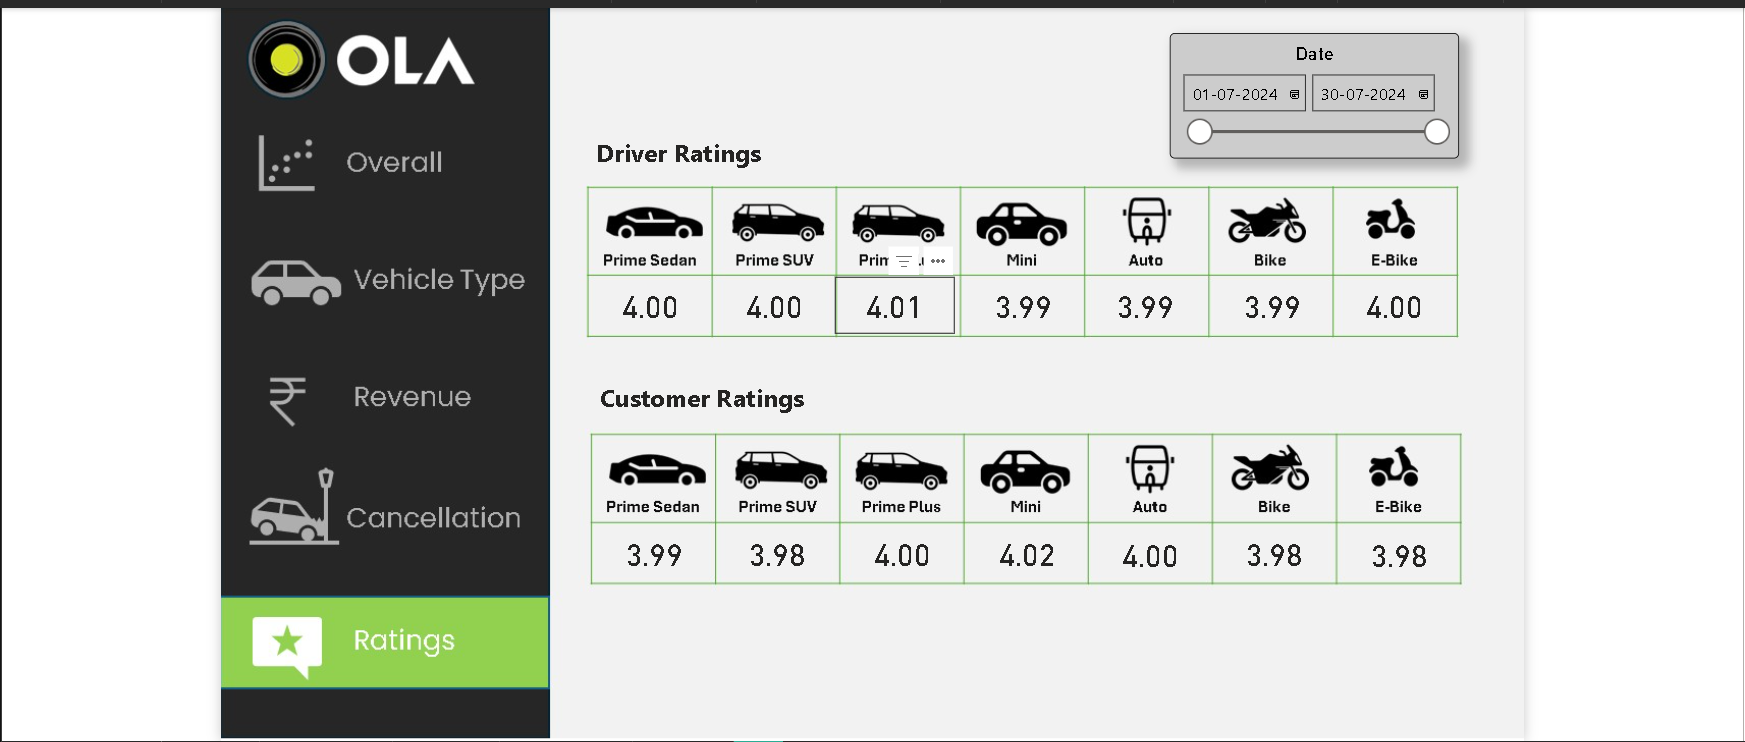

This screenshot's page, from the dashboard's own definition file:
{"tool":"powerbi","page":{"name":"Ratings","canvas":[1280,720],"ordinal":4},"visuals":[{"type":"actionButton","box":[0,216,325.2,90.8],"z":0},{"type":"actionButton","box":[0,337.4,325.2,90.8],"z":1000},{"type":"actionButton","box":[0,445.4,325.2,90.8],"z":2000},{"type":"actionButton","box":[0,104.3,325.2,90.8],"z":3000},{"type":"card","fields":{"Values":["Avg(July.Driver_Ratings)"]},"box":[363.6,263.5,118,56.3],"z":4000},{"type":"card","fields":{"Values":["Avg(July.Driver_Ratings)"]},"box":[484.4,263.5,118,56.3],"z":5000},{"type":"card","fields":{"Values":["Avg(July.Driver_Ratings)"]},"box":[602.4,263.5,118,56.3],"z":6000},{"type":"card","fields":{"Values":["Avg(July.Driver_Ratings)"]},"box":[728.6,263.5,118,56.3],"z":7000},{"type":"card","fields":{"Values":["Avg(July.Driver_Ratings)"]},"box":[849.4,263.5,118,56.3],"z":8000},{"type":"card","fields":{"Values":["Avg(July.Driver_Ratings)"]},"box":[972.9,263.5,118,56.3],"z":9000},{"type":"card","fields":{"Values":["Avg(July.Driver_Ratings)"]},"box":[1093.7,263.5,118,56.3],"z":10000},{"type":"card","fields":{"Values":["Avg(July.Customer_Rating)"]},"box":[366.4,506.3,118,56.3],"z":11000},{"type":"textbox","box":[363.6,120.8,227.8,54.9],"z":12000},{"type":"textbox","box":[366.4,360.9,212.7,56.3],"z":13000},{"type":"card","fields":{"Values":["Avg(July.Customer_Rating)"]},"box":[487.1,506.3,118,56.3],"z":14000},{"type":"card","fields":{"Values":["Avg(July.Customer_Rating)"]},"box":[609.3,506.3,118,56.3],"z":15000},{"type":"card","fields":{"Values":["Avg(July.Customer_Rating)"]},"box":[732.8,506.3,118,56.3],"z":16000},{"type":"card","fields":{"Values":["Avg(July.Customer_Rating)"]},"box":[853.5,507.7,118,56.3],"z":17000},{"type":"card","fields":{"Values":["Avg(July.Customer_Rating)"]},"box":[975.6,506.3,118,56.3],"z":18000},{"type":"card","fields":{"Values":["Avg(July.Customer_Rating)"]},"box":[1097.8,507.7,118,56.3],"z":19000},{"type":"slicer","title":"Date","fields":{"Values":["July.Date"]},"box":[931.7,24.7,284,123.5],"z":20000}]}

Visuals, with their boxes on the page's 1280x720 design canvas (x1, y1, x2, y2). These are canvas units, not pixel positions in the 1745x742 screenshot, which may show the page scaled, cropped or inside an application window:
actionButton: bbox=[0, 216, 325, 307]
actionButton: bbox=[0, 337, 325, 428]
actionButton: bbox=[0, 445, 325, 536]
actionButton: bbox=[0, 104, 325, 195]
card - Avg(July.Driver_Ratings): bbox=[364, 264, 482, 320]
card - Avg(July.Driver_Ratings): bbox=[484, 264, 602, 320]
card - Avg(July.Driver_Ratings): bbox=[602, 264, 720, 320]
card - Avg(July.Driver_Ratings): bbox=[729, 264, 847, 320]
card - Avg(July.Driver_Ratings): bbox=[849, 264, 967, 320]
card - Avg(July.Driver_Ratings): bbox=[973, 264, 1091, 320]
card - Avg(July.Driver_Ratings): bbox=[1094, 264, 1212, 320]
card - Avg(July.Customer_Rating): bbox=[366, 506, 484, 563]
textbox: bbox=[364, 121, 591, 176]
textbox: bbox=[366, 361, 579, 417]
card - Avg(July.Customer_Rating): bbox=[487, 506, 605, 563]
card - Avg(July.Customer_Rating): bbox=[609, 506, 727, 563]
card - Avg(July.Customer_Rating): bbox=[733, 506, 851, 563]
card - Avg(July.Customer_Rating): bbox=[854, 508, 972, 564]
card - Avg(July.Customer_Rating): bbox=[976, 506, 1094, 563]
card - Avg(July.Customer_Rating): bbox=[1098, 508, 1216, 564]
"Date" slicer: bbox=[932, 25, 1216, 148]
